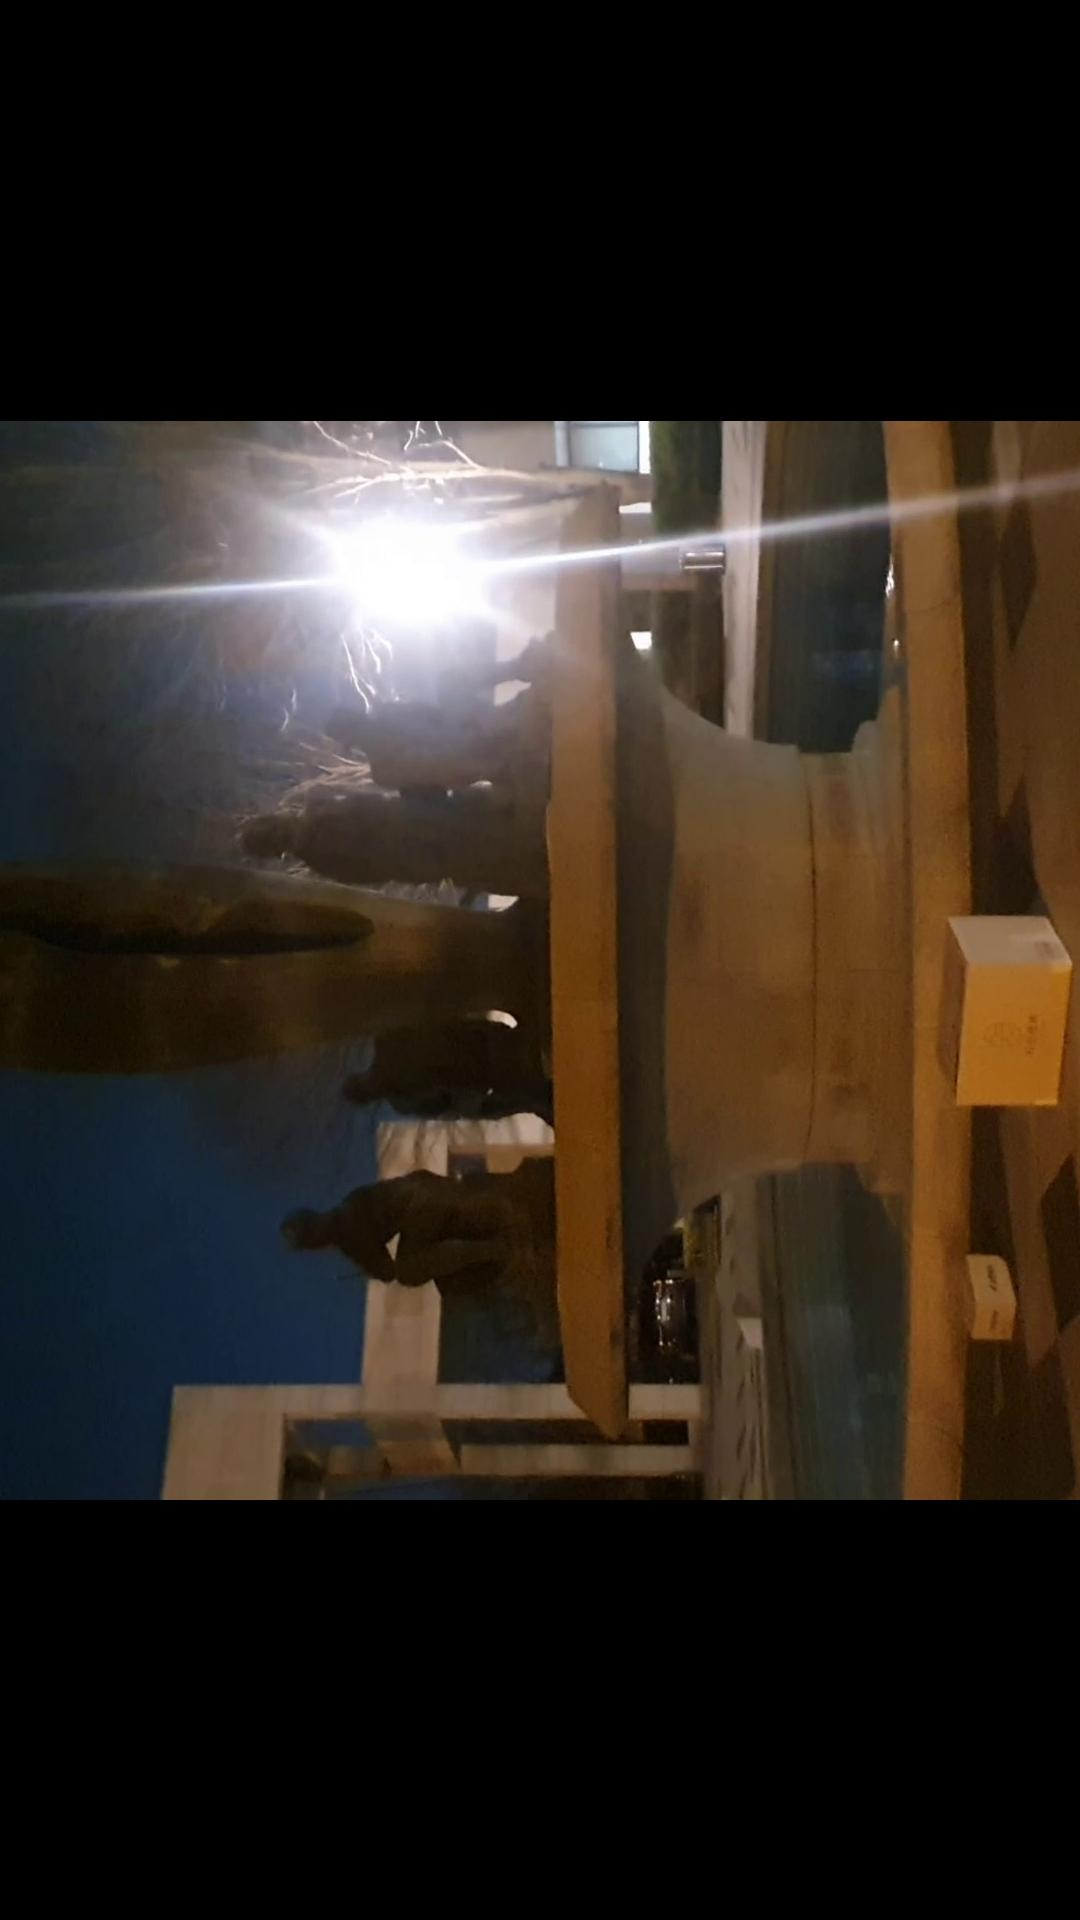Box: (923, 895, 1077, 1104), (930, 1240, 1035, 1362)
